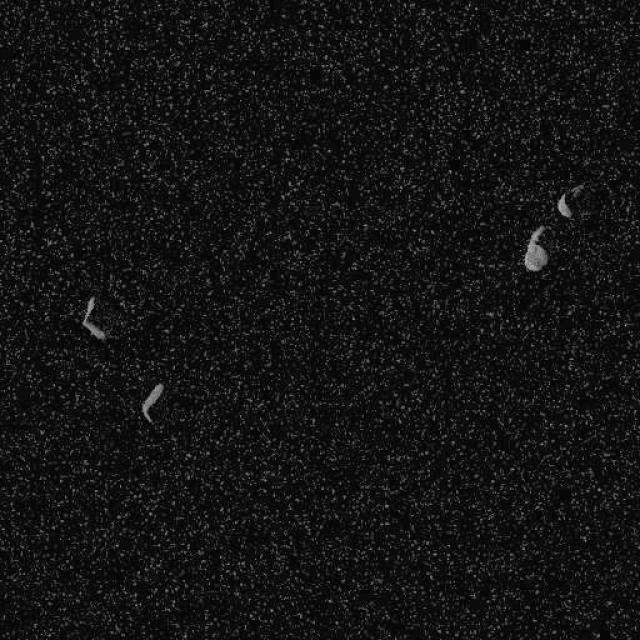D2: (558, 185, 599, 221), (522, 224, 548, 272), (80, 295, 106, 341), (140, 381, 164, 424)
